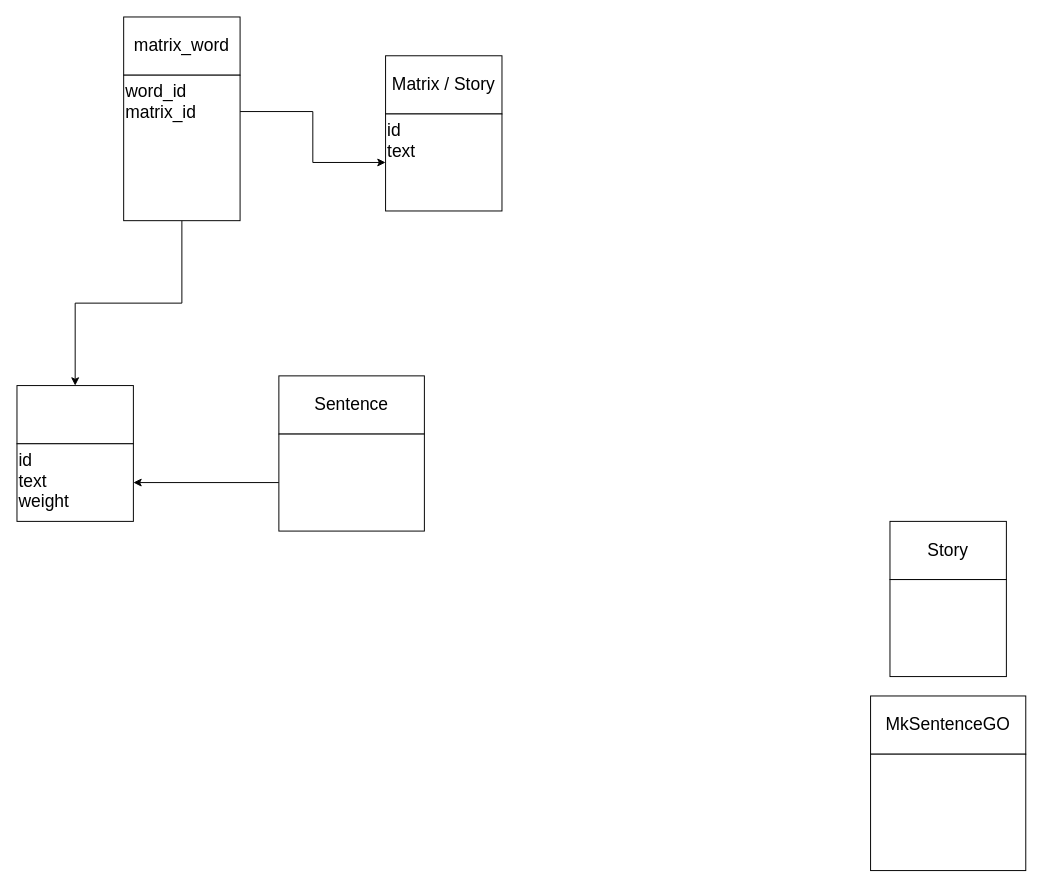
The diagram is 1043 pixels wide and 888 high, and some of its shapes have lost their labels. Here are the shapes that lost their labels. From the top down, the centre of each, then its label:
(74,414): EWord
(351,482): id word_id text
(947,628): + id + text
(948,812): id word_id matrix_id text
